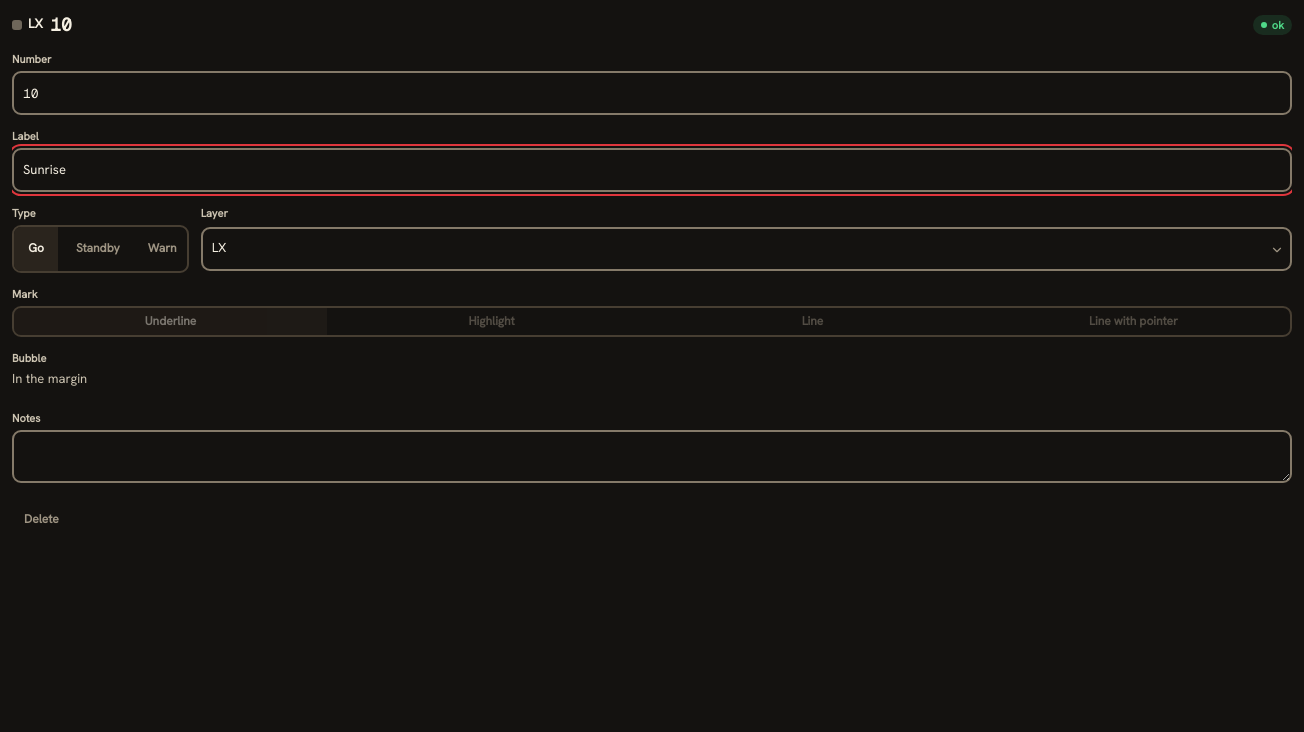
Test: Escape in a text field cancels the edit and leaves the selection alone
The image size is (1304, 732).
Replace the text in the field labelled "Label" with "Sunset". click: x=652, y=170
box: x1=12 y1=148 x2=1292 y2=192
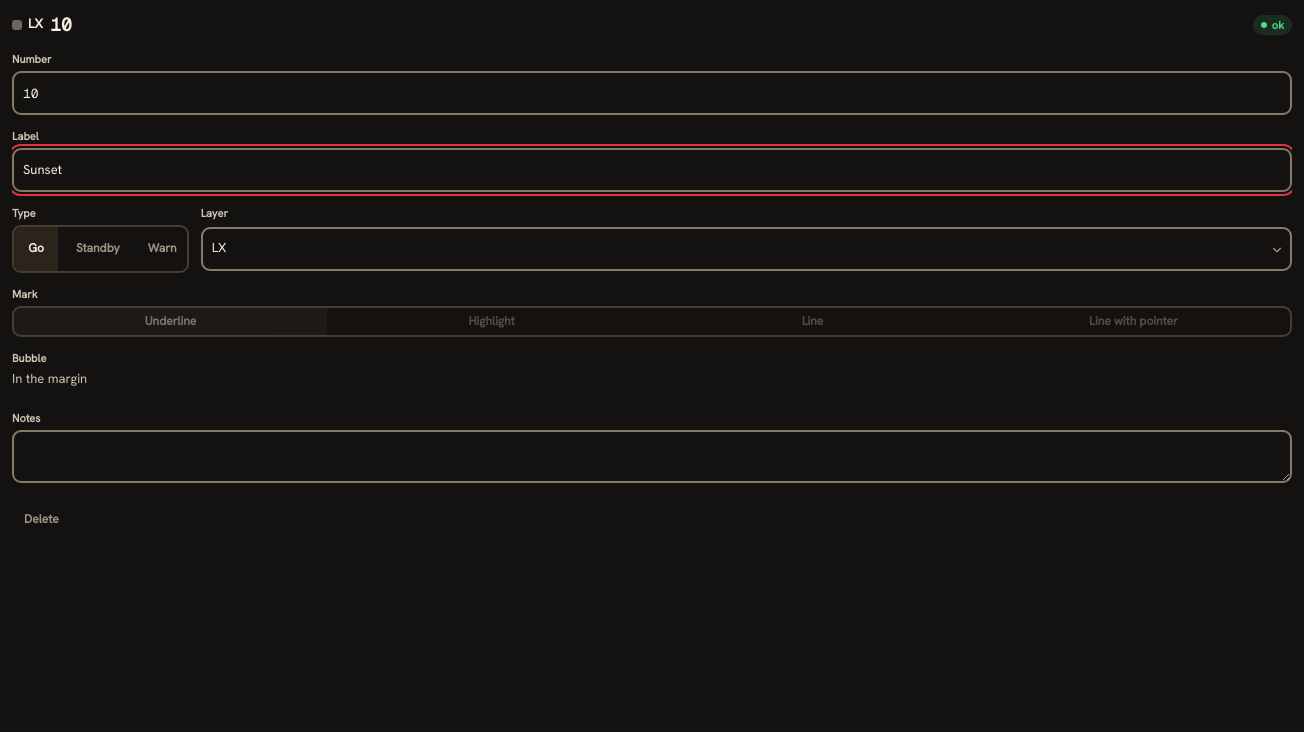
Press Escape in the field labelled "Label", box x1=12 y1=148 x2=1292 y2=192
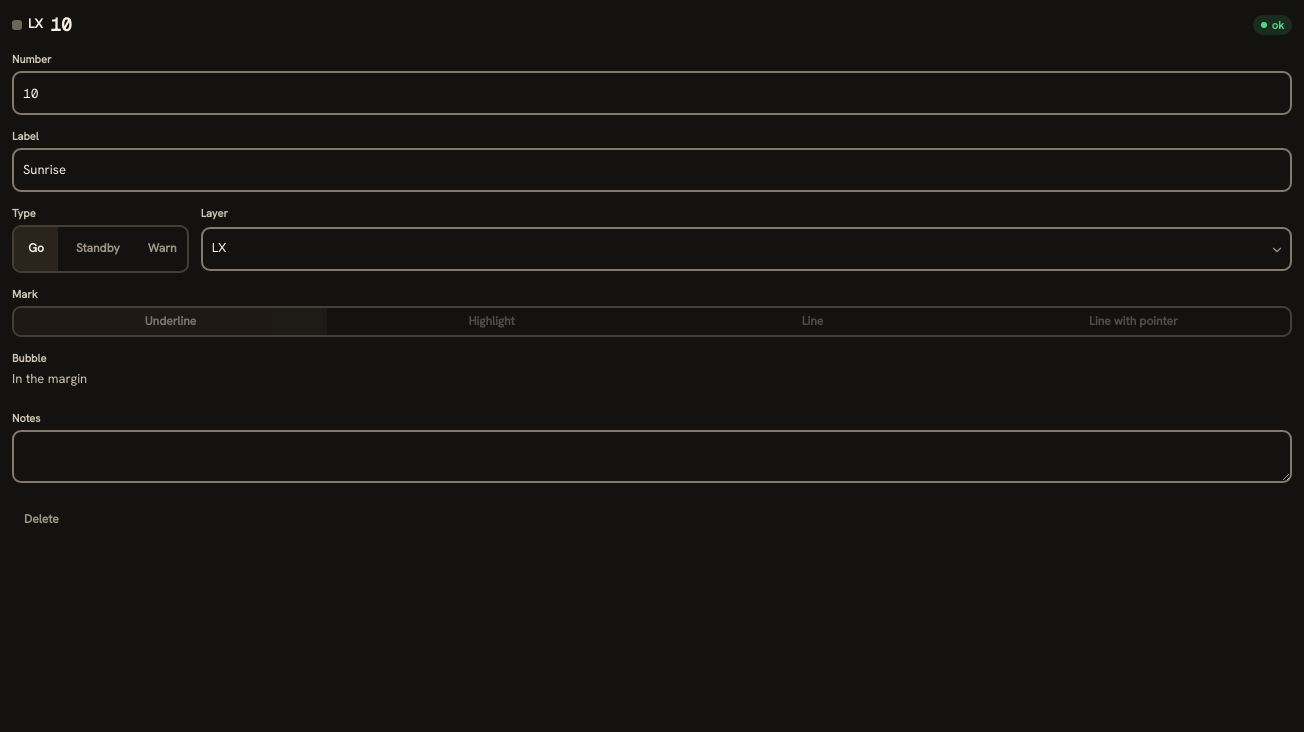
expect the field labelled "Label" holds "Sunrise": met, box x1=12 y1=148 x2=1292 y2=192
